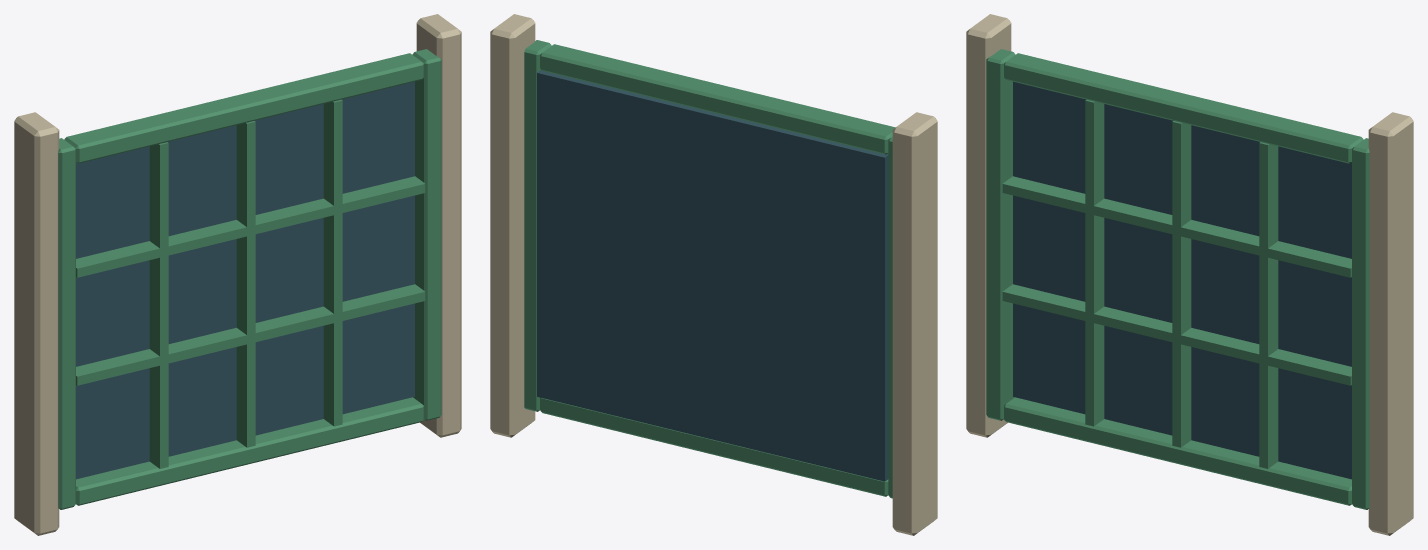
The model's file is window_37.glb.
The picture shows the model from 3 angles, left to right: view 1: azimuth 30°, elevation 25°; view 2: azimuth 150°, elevation 25°; view 3: azimuth 330°, elevation 25°; orthographic projection.
Visible parts, largest first — view 1: window_37; view 2: window_37; view 3: window_37.
Boxes of the visible parts, bbox=[...] form: window_37: bbox=[14, 14, 461, 535]; window_37: bbox=[490, 14, 937, 535]; window_37: bbox=[966, 14, 1413, 535].
Bounding box in the file's own units: 2.21 × 2 × 0.23.
